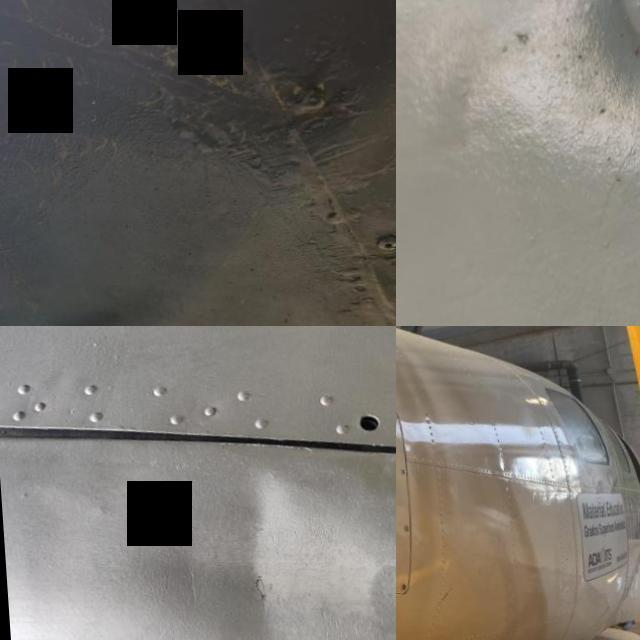Dent: (90, 461, 396, 640), (558, 0, 640, 159), (0, 261, 184, 326)
Missing_Fastener: (336, 403, 396, 460)
